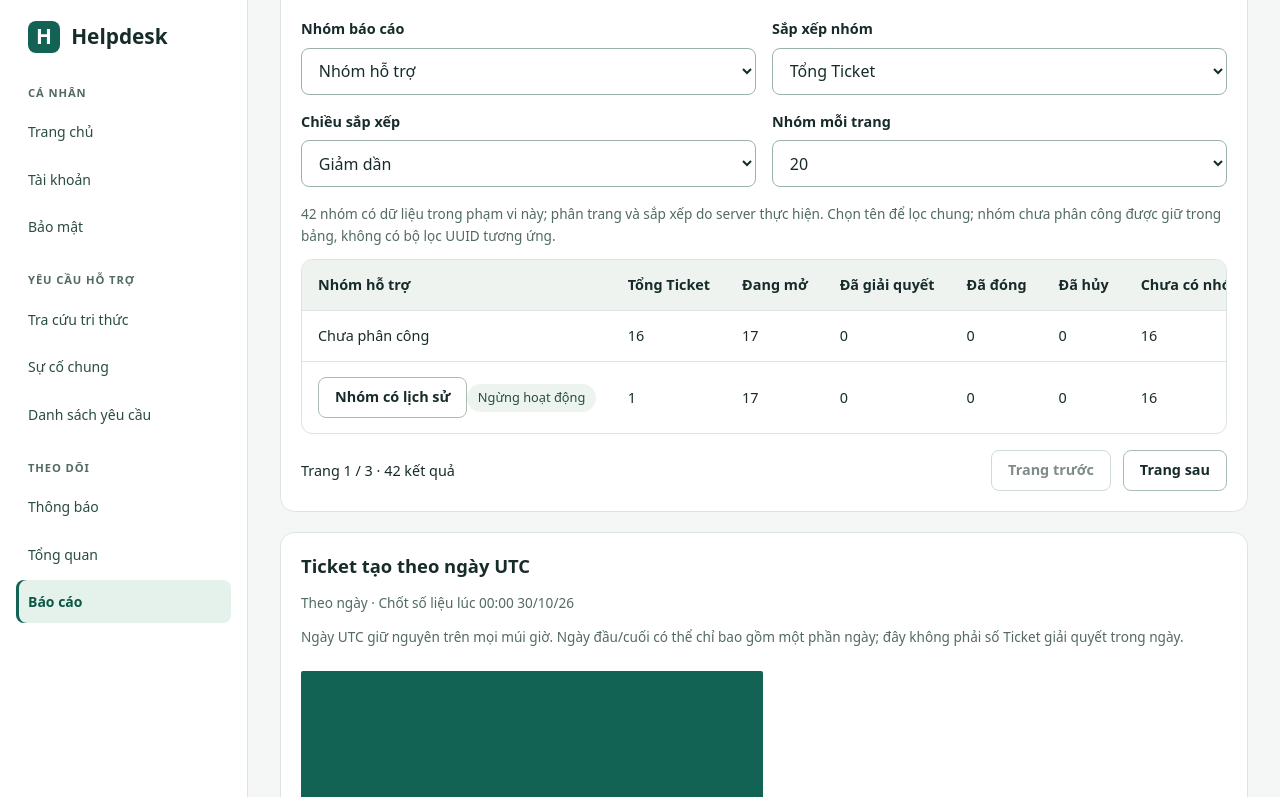
Test: dashboard and server aggregated ticket reports › drills into a visible group without fetching an administrative directory and supports URL back
(page scrolled)
Click the button "Nhóm có lịch sử" at [393, 398], box [318,377,468,418]
(page scrolled)
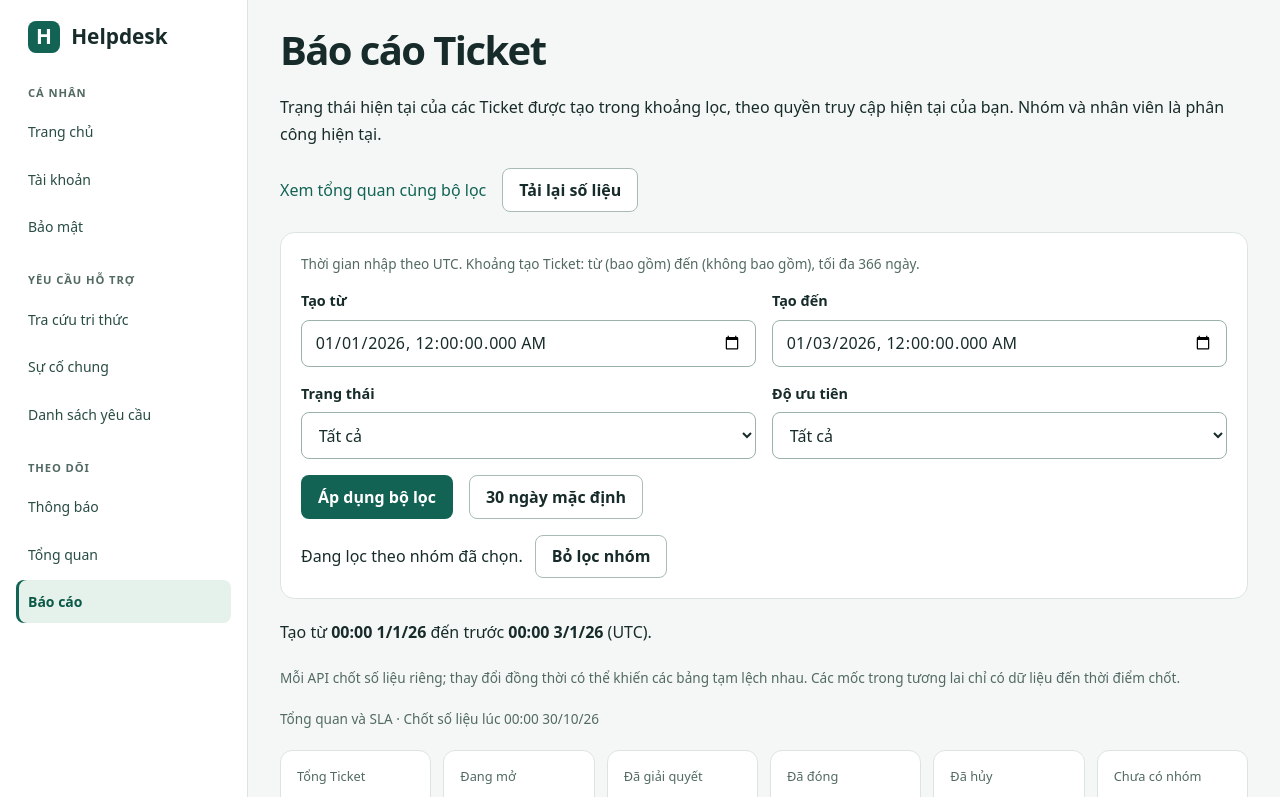
Expected: the button "Bỏ lọc nhóm" is shown, [535,535,667,578]
